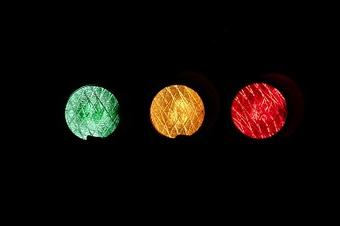trafic: (51, 78, 294, 144)
